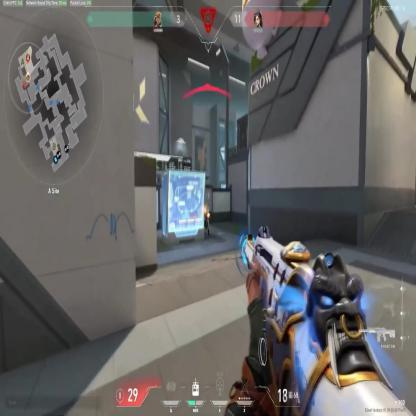enemy: (204, 206, 210, 239)
enemy_head: (205, 204, 208, 210)
